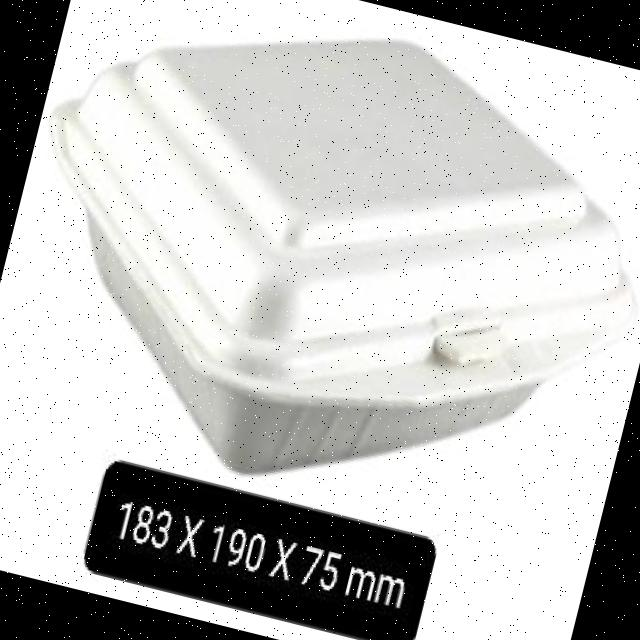styrofoam: (0, 0, 640, 556)
